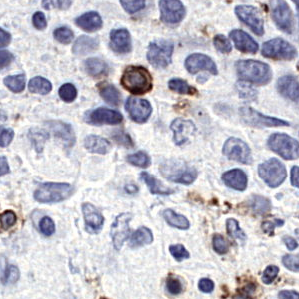Lymphocyte: (121, 63, 160, 96)
